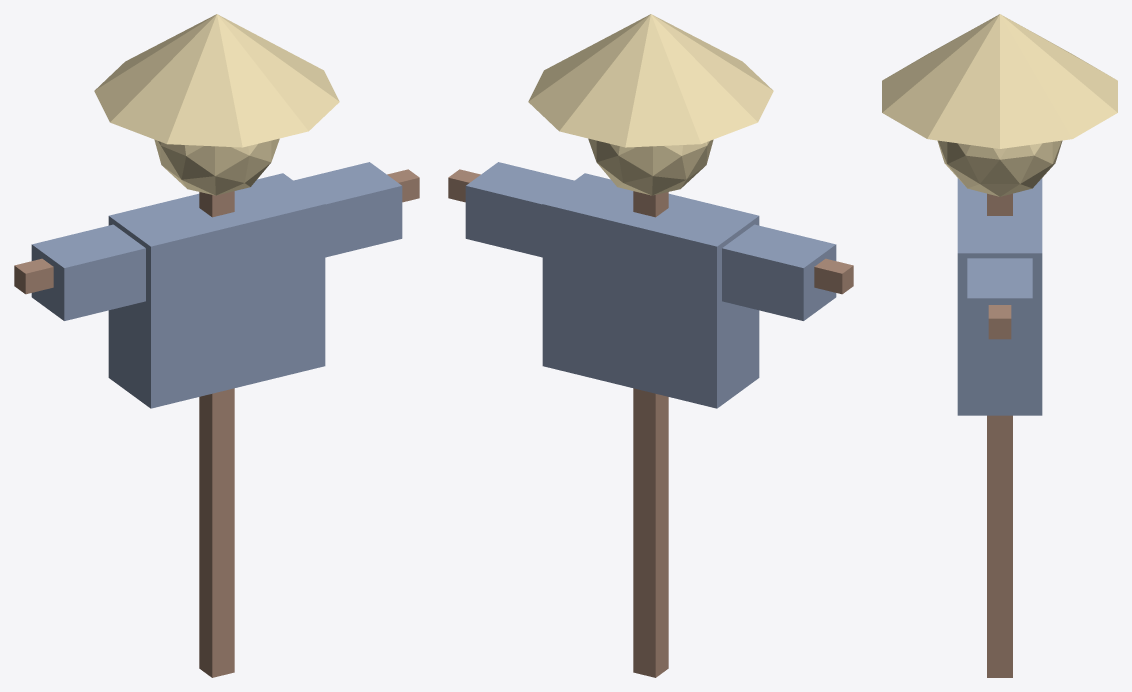
Rendered from scare_s1_01.glb.
The picture shows the model from 3 angles, left to right: view 1: azimuth 30°, elevation 25°; view 2: azimuth 150°, elevation 25°; view 3: azimuth 270°, elevation 25°; orthographic projection.
Visible parts, largest first — view 1: part00, part02, part01; view 2: part00, part02, part01; view 3: part02, part00, part01.
Part boxes in pixels (<box>): part00: <box>31,162,402,408</box>; part02: <box>94,14,339,195</box>; part01: <box>14,169,419,677</box>; part00: <box>465,162,836,408</box>; part02: <box>528,14,773,195</box>; part01: <box>448,169,853,677</box>; part02: <box>882,14,1117,196</box>; part00: <box>957,178,1042,415</box>; part01: <box>987,193,1012,677</box>.
Size of the model in its own units: 1.4 by 2.23 by 0.7228.
